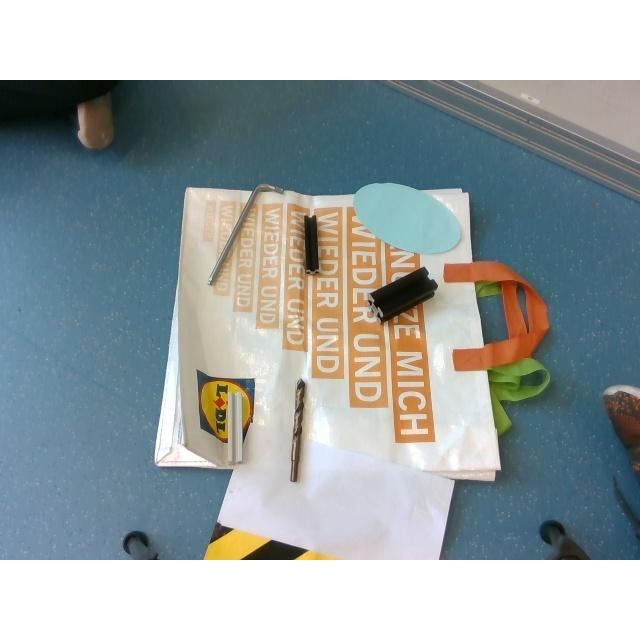AllenKey: (207, 183, 283, 285)
Drill: (290, 379, 306, 481)
F20_20_B: (304, 214, 320, 274)
F20_20_G: (227, 392, 243, 466)
S40_40_B: (367, 266, 438, 322)
